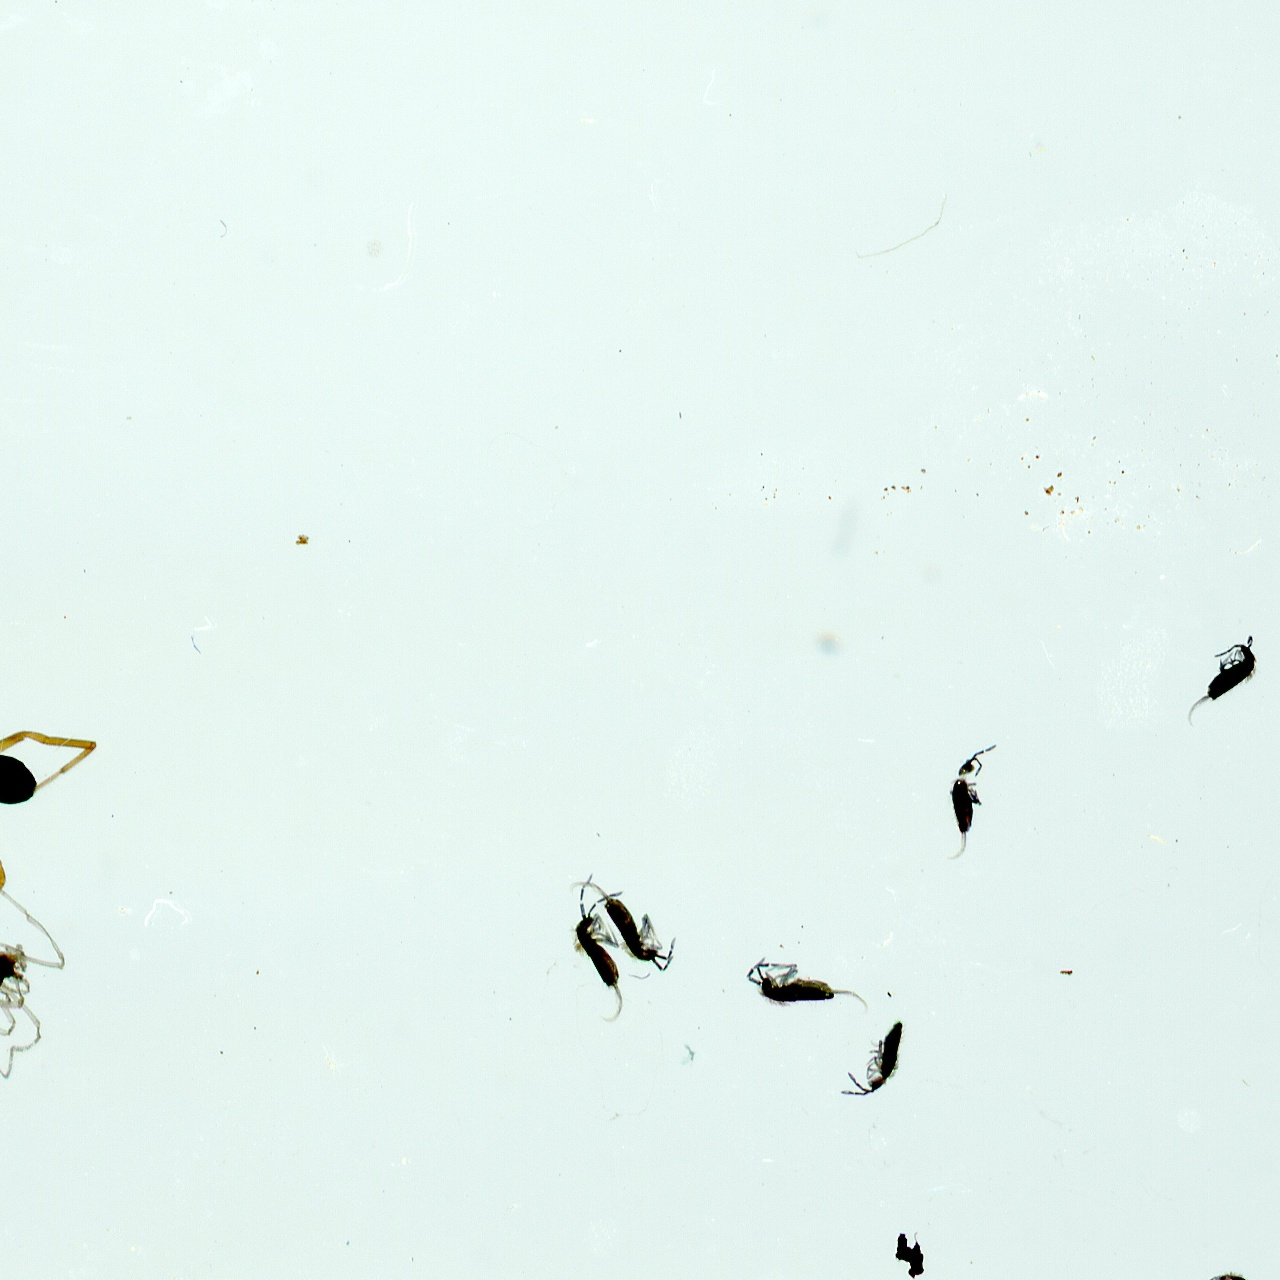arthropod: (0, 696, 101, 921), (560, 842, 699, 990), (0, 860, 73, 1088), (1164, 617, 1280, 750), (742, 941, 879, 1021), (568, 866, 629, 1030), (945, 733, 1003, 867), (835, 1014, 907, 1105), (1198, 1258, 1279, 1280)
